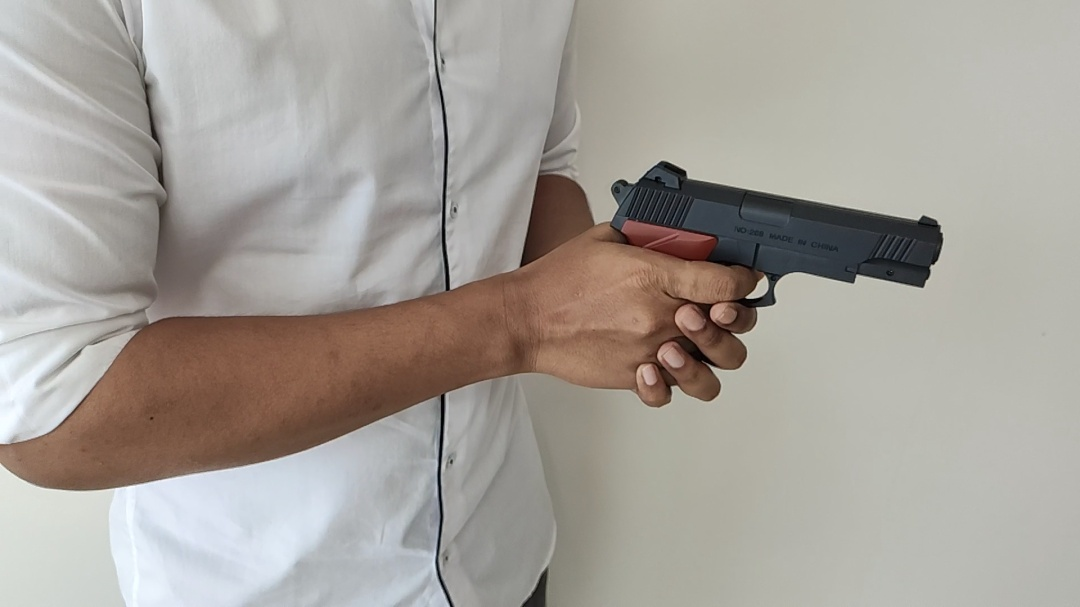gun: (609, 160, 945, 306)
